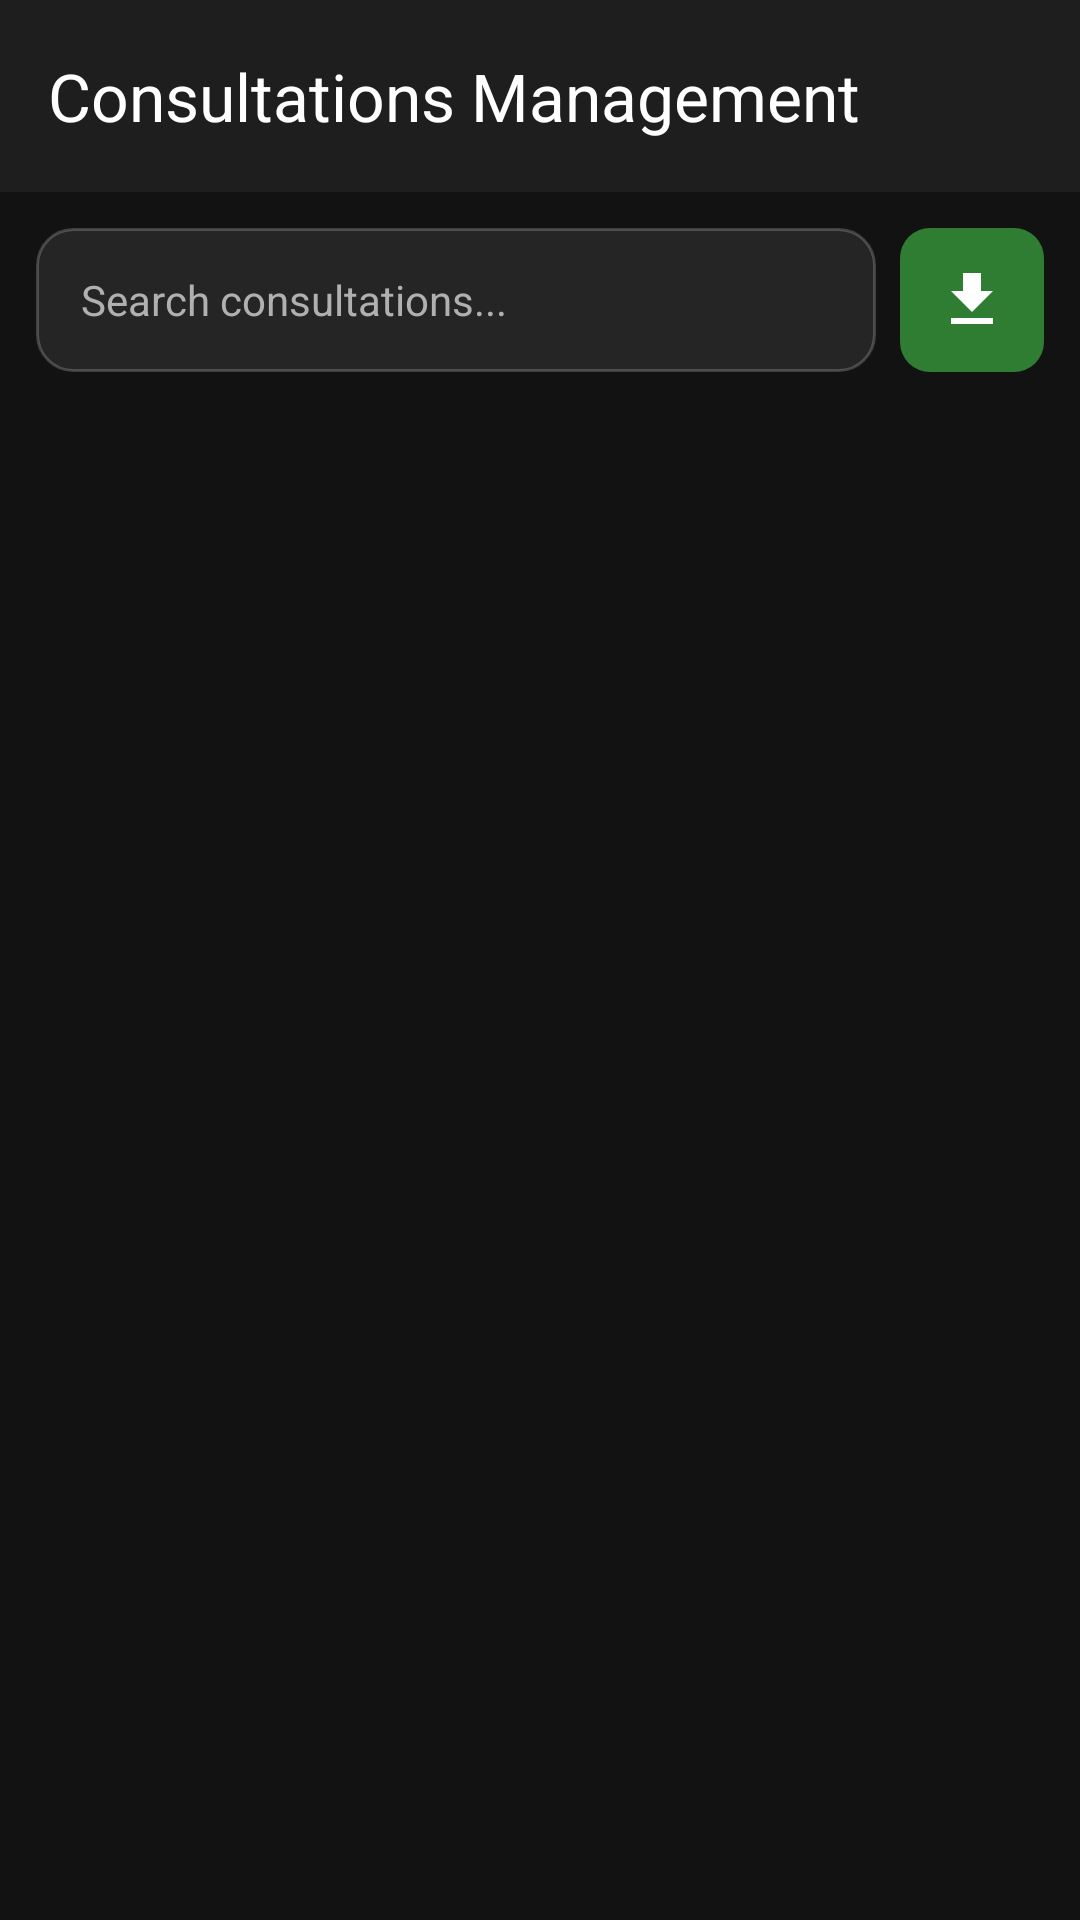

Screen size 1080 x 1920. Icon name, then its box in pixels as bbox=[x1, y1, x2, y2]:
file download: bbox=[900, 228, 1044, 372]
